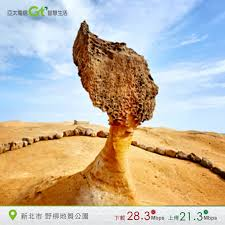yehliu: (64, 18, 168, 133)
